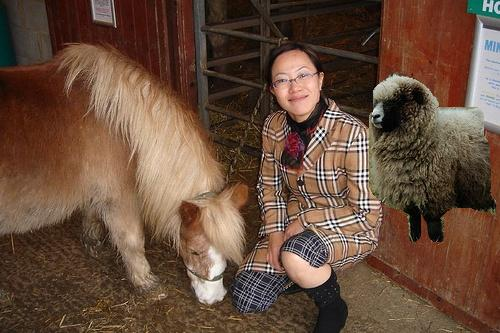tampered: (370, 73, 496, 242)
